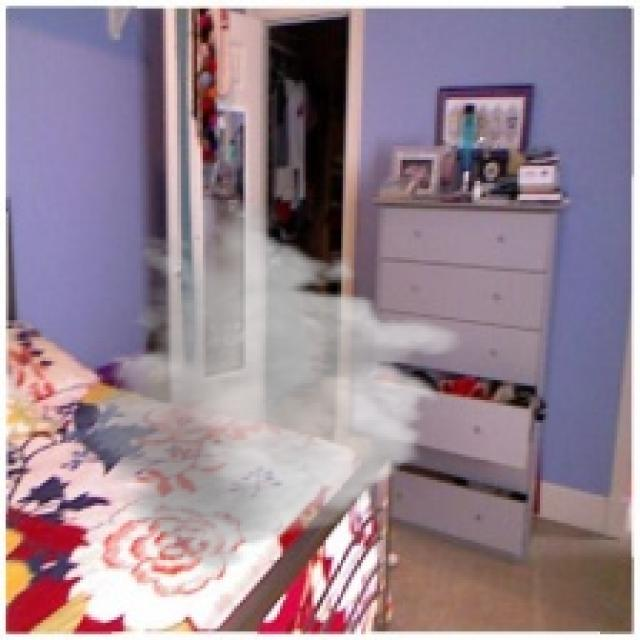smoke: (66, 197, 468, 572)
